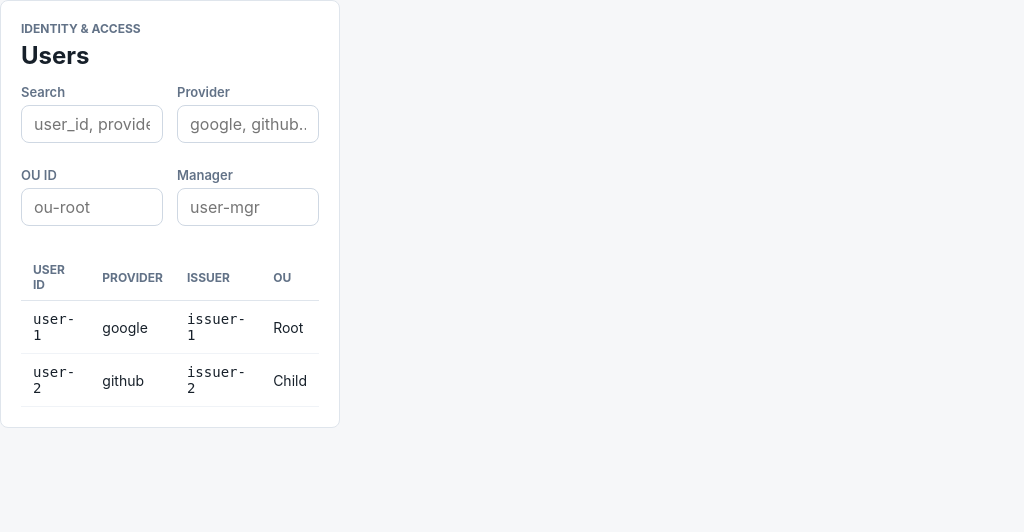
Test: UserWorkspace › opens edit org form when Edit Org is clicked
The image size is (1024, 532).
Click the text "google".
click(133, 327)  # box [90, 300, 175, 354]
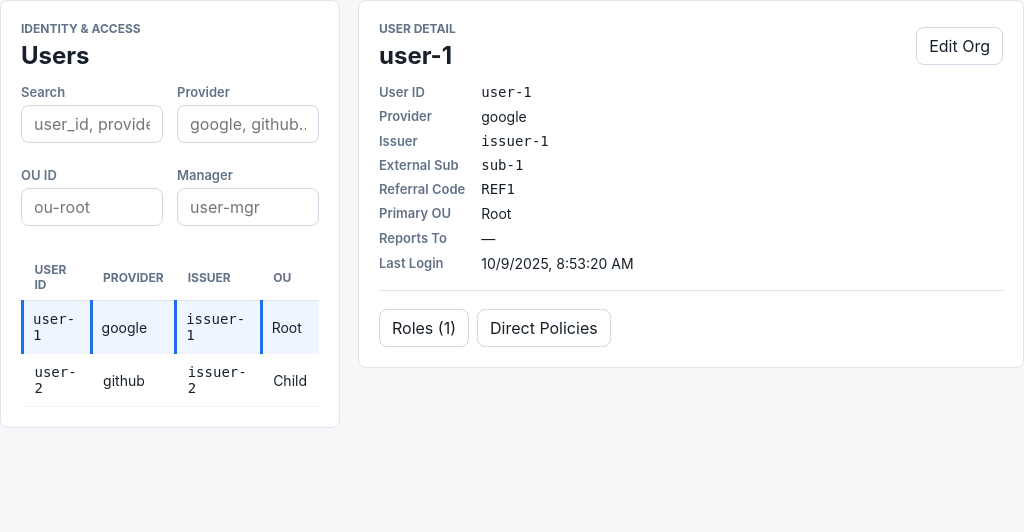
Expected: the text "User Detail" is shown, [379, 21, 456, 36]
Click the button "Edit Org".
click(960, 46)  # box [916, 26, 1003, 64]
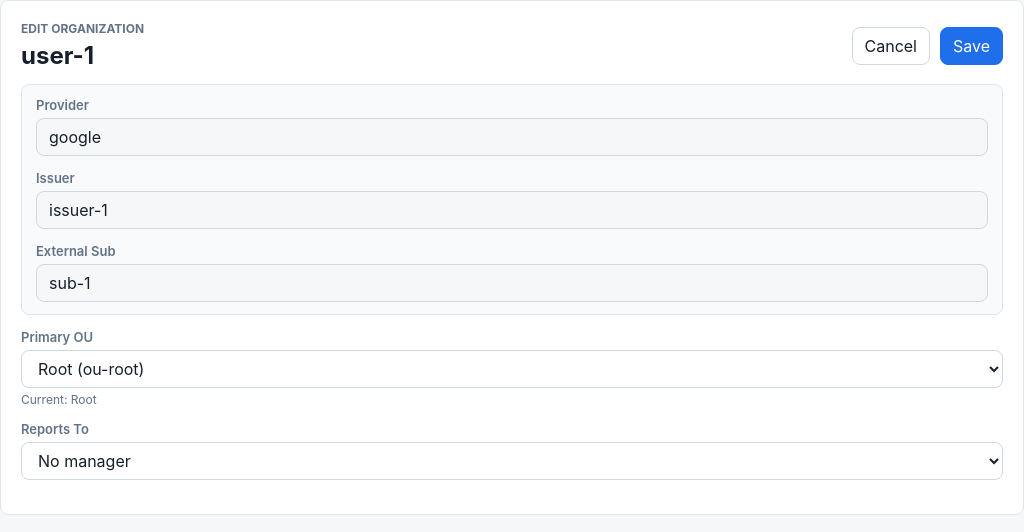
Expected: the text "Edit Organization" is shown, [21, 21, 144, 36]
